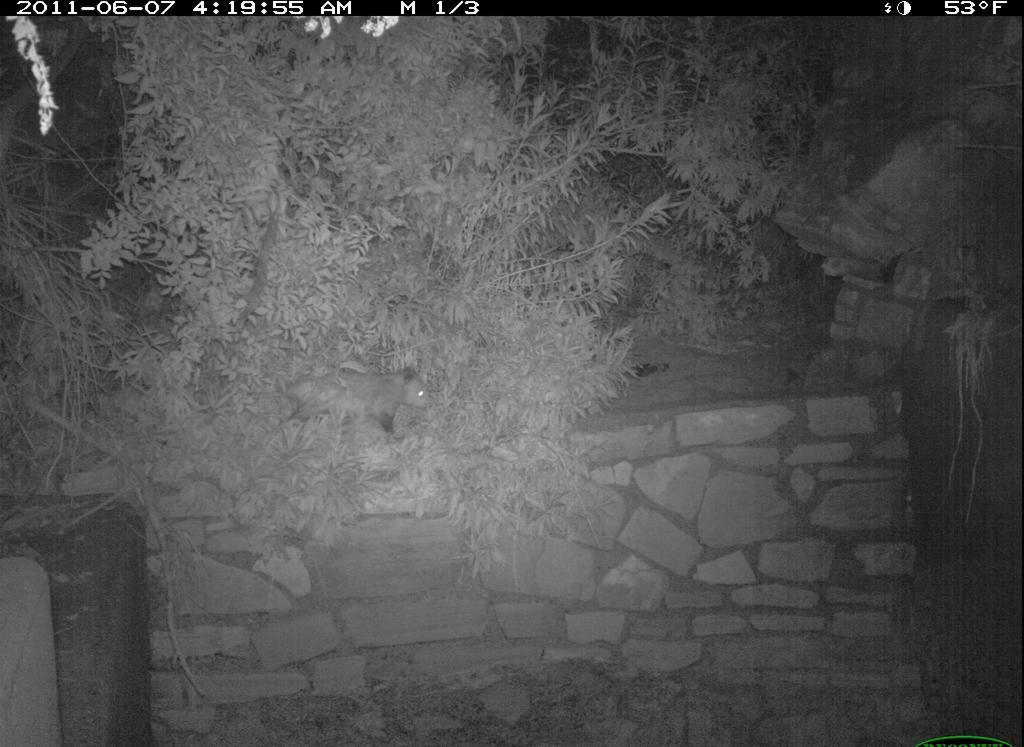opossum: (231, 361, 441, 446)
